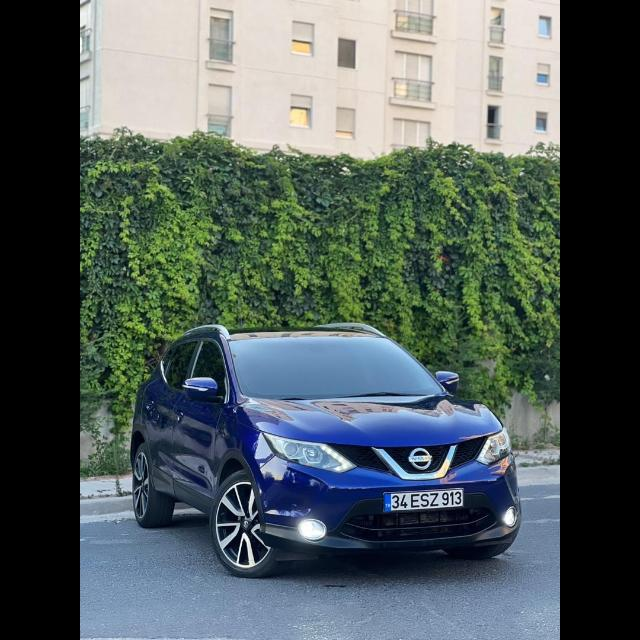Plaka: (385, 490, 463, 510)
